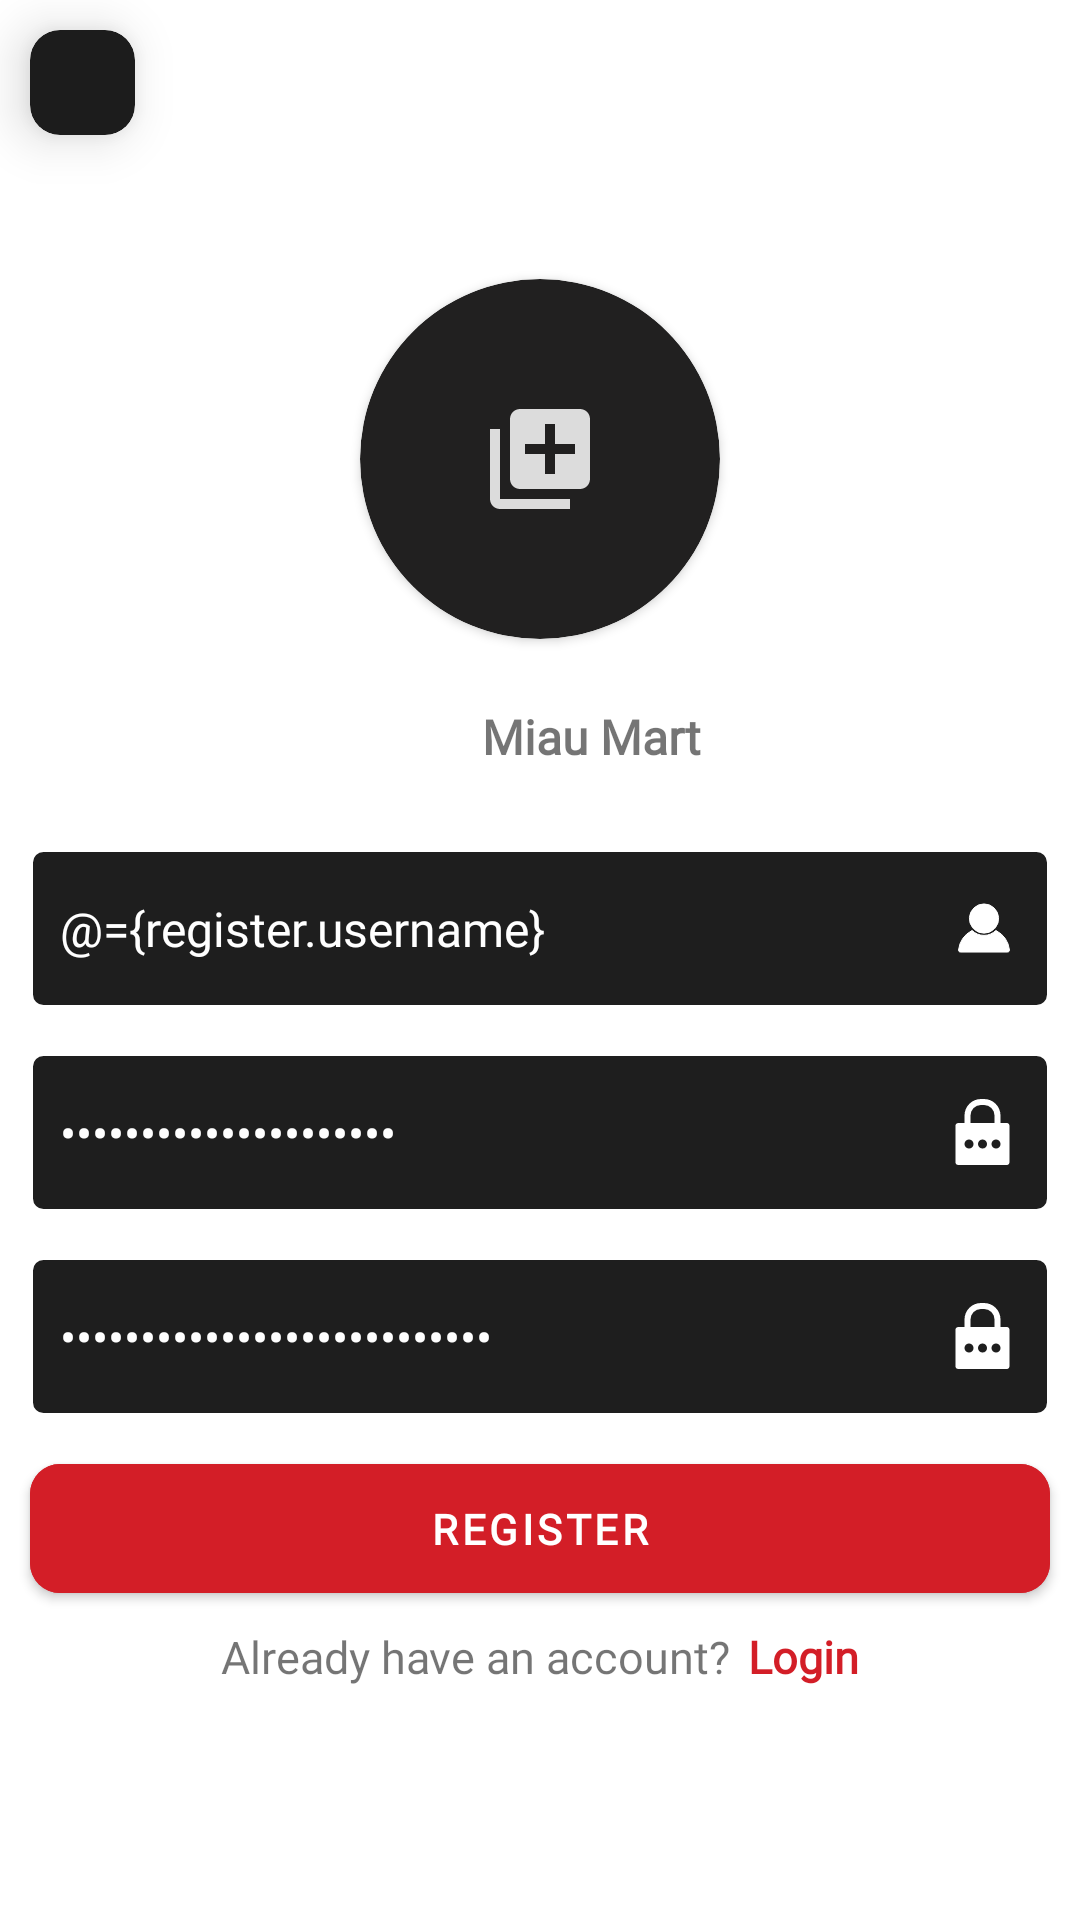

Point at icon controls on the screen. Image size 1080 x 1920, points as point (x, y).
Icon add profile image: point (540, 459)
